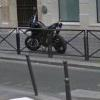Motorcycle: (21, 11, 80, 65)
